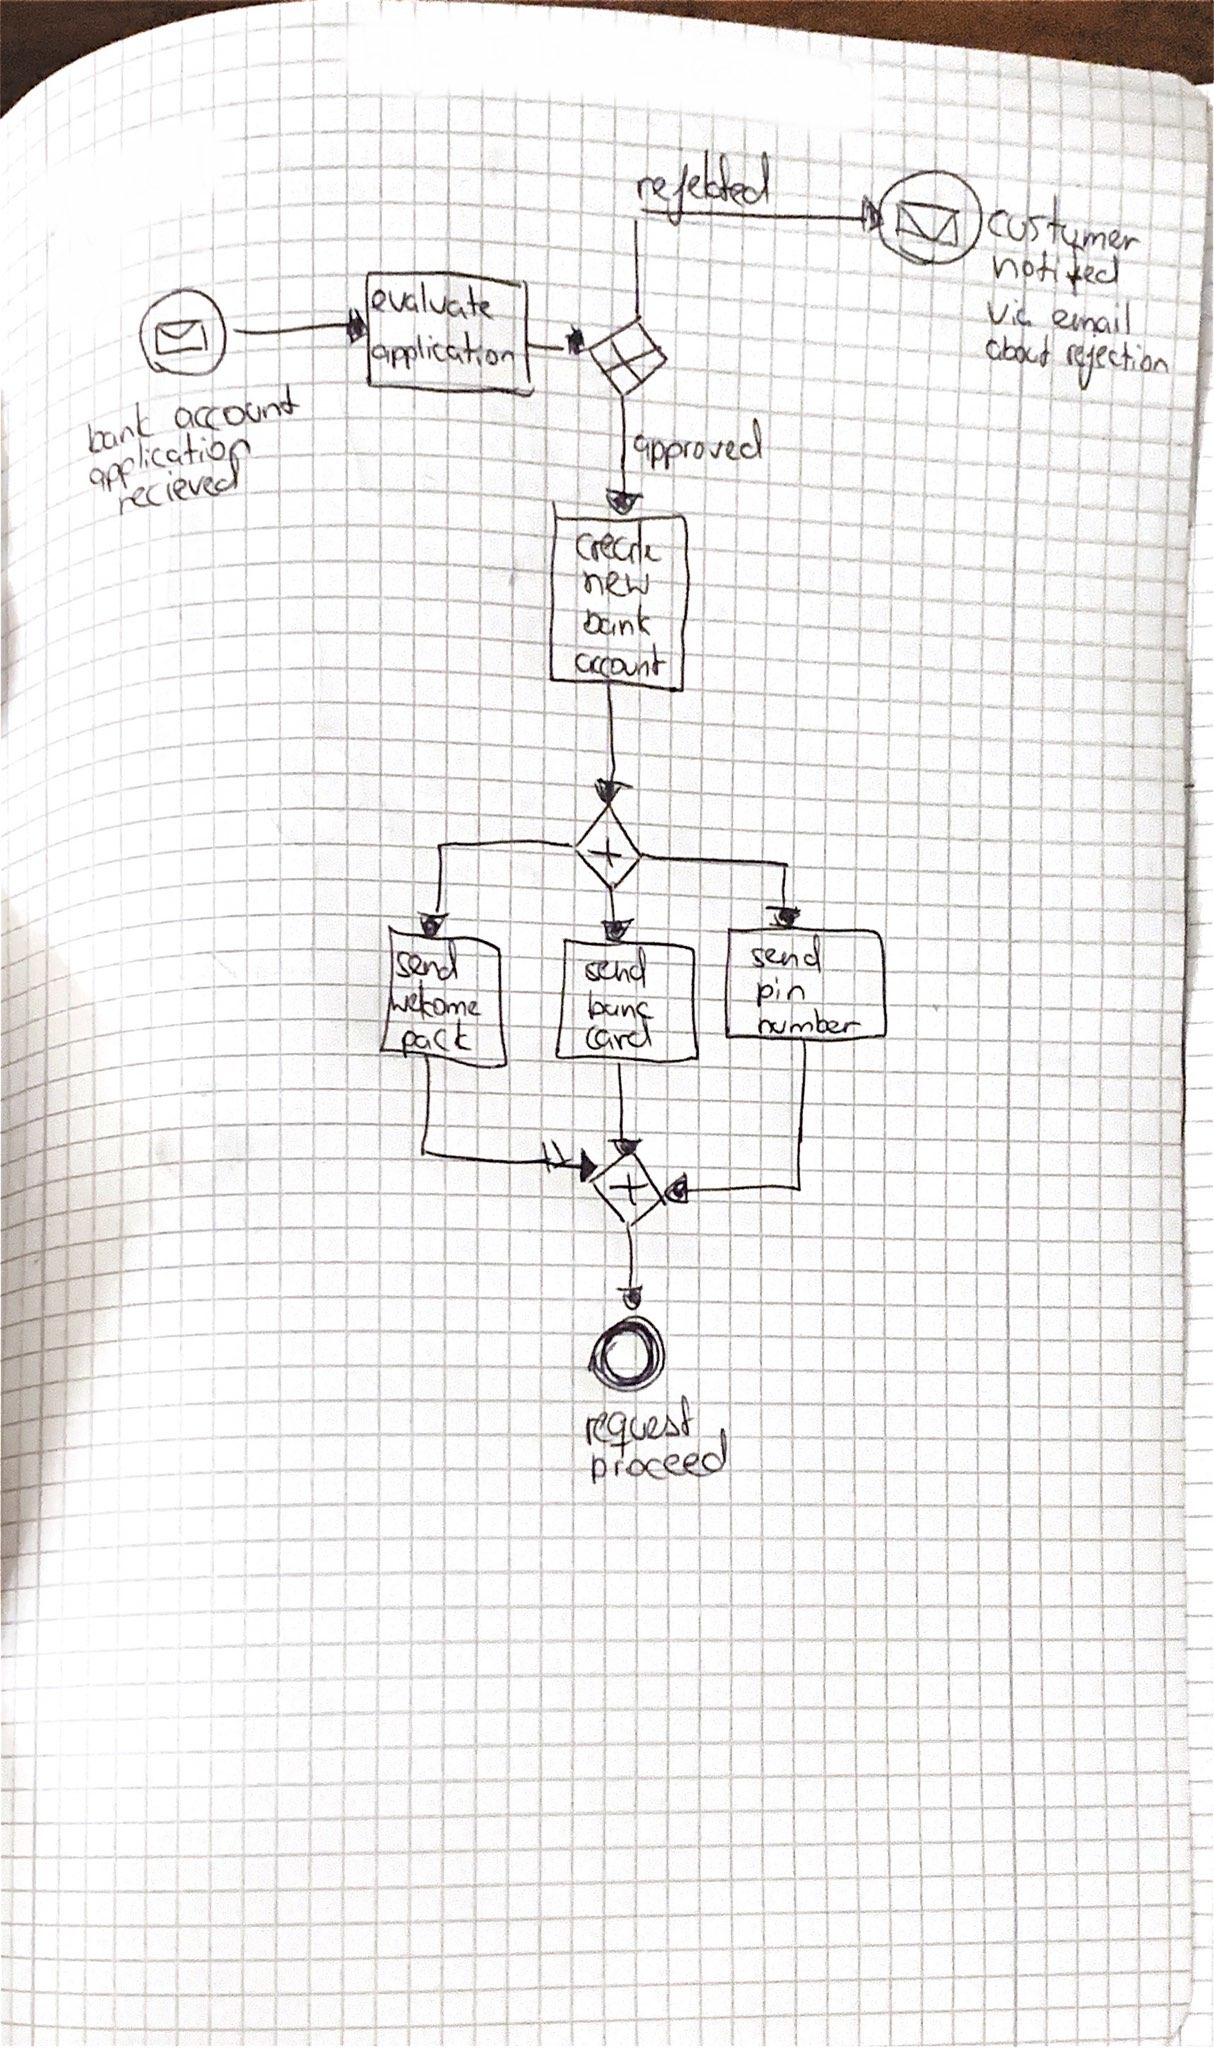about: (974, 332, 1055, 374)
account: (171, 379, 301, 441), (564, 642, 672, 681)
application: (366, 328, 520, 386), (77, 458, 251, 499)
approved: (629, 415, 770, 471)
bank: (69, 406, 153, 465), (584, 986, 655, 1025), (581, 604, 653, 640)
card: (582, 1022, 656, 1054)
create: (569, 522, 663, 571)
customer: (984, 189, 1140, 256)
email: (1045, 295, 1133, 340)
evaluate: (366, 277, 496, 330)
new: (575, 565, 656, 600)
notified: (986, 246, 1127, 296)
number: (757, 1012, 860, 1041)
pack: (397, 1022, 474, 1057)
pin: (752, 976, 815, 1006)
proceed: (590, 1440, 741, 1503)
recieved: (106, 480, 246, 523)
rejected: (621, 137, 786, 220)
rejection: (1056, 337, 1174, 395)
request: (575, 1389, 701, 1455)
send: (572, 948, 660, 989), (747, 934, 837, 973), (392, 942, 465, 984)
via: (978, 291, 1048, 332)
welcome: (383, 976, 484, 1023)
